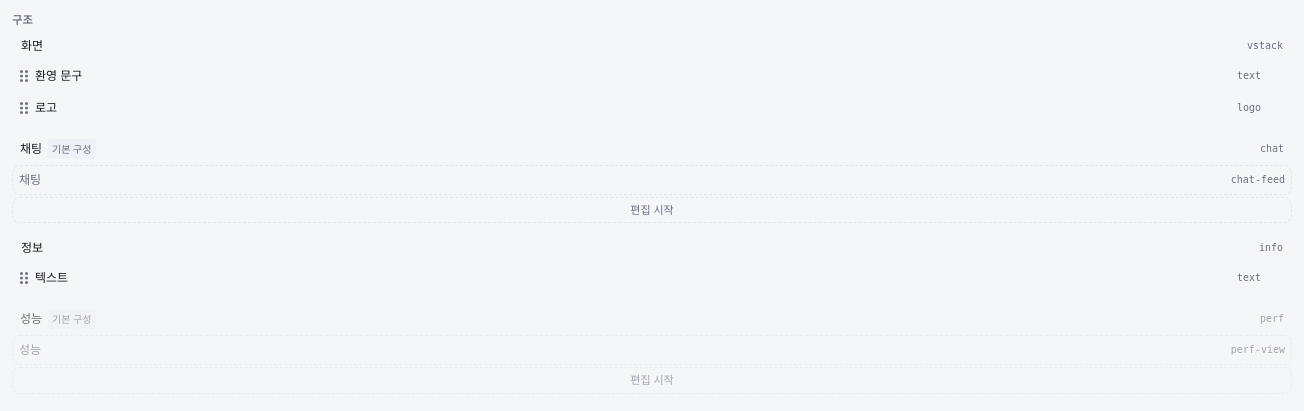
Test: StructureTree (scoped sections) › renames via double-click: Enter commits the input value with the scoped path
The image size is (1304, 411).
Double-click the text "환영 문구": (59, 75) [35,66,82,84]
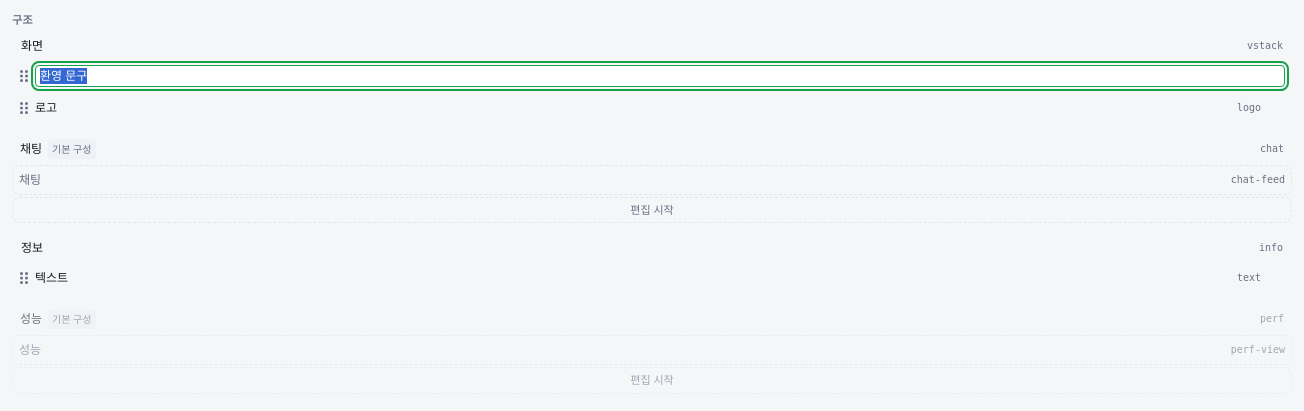
Expected: the field holds "환영 문구"
In the field: (660, 76) [35,64,1285,86], type "메인 타이틀"
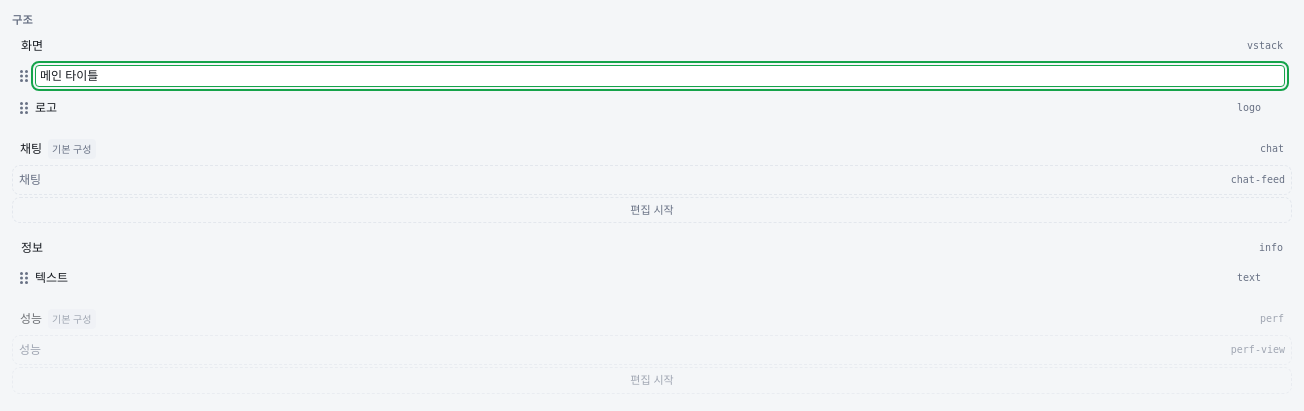
Press Enter in the field, box [35,64,1285,86]
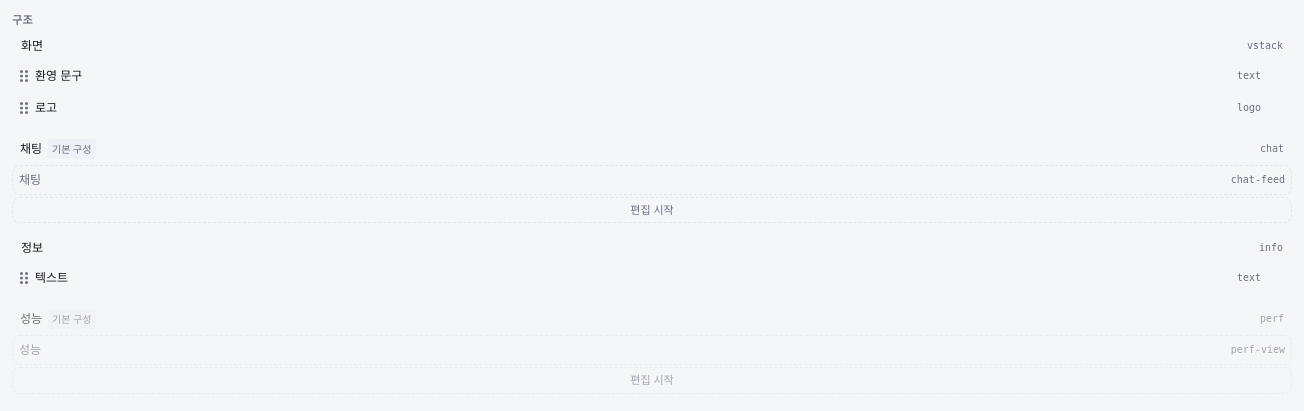
Expected: the field is gone
